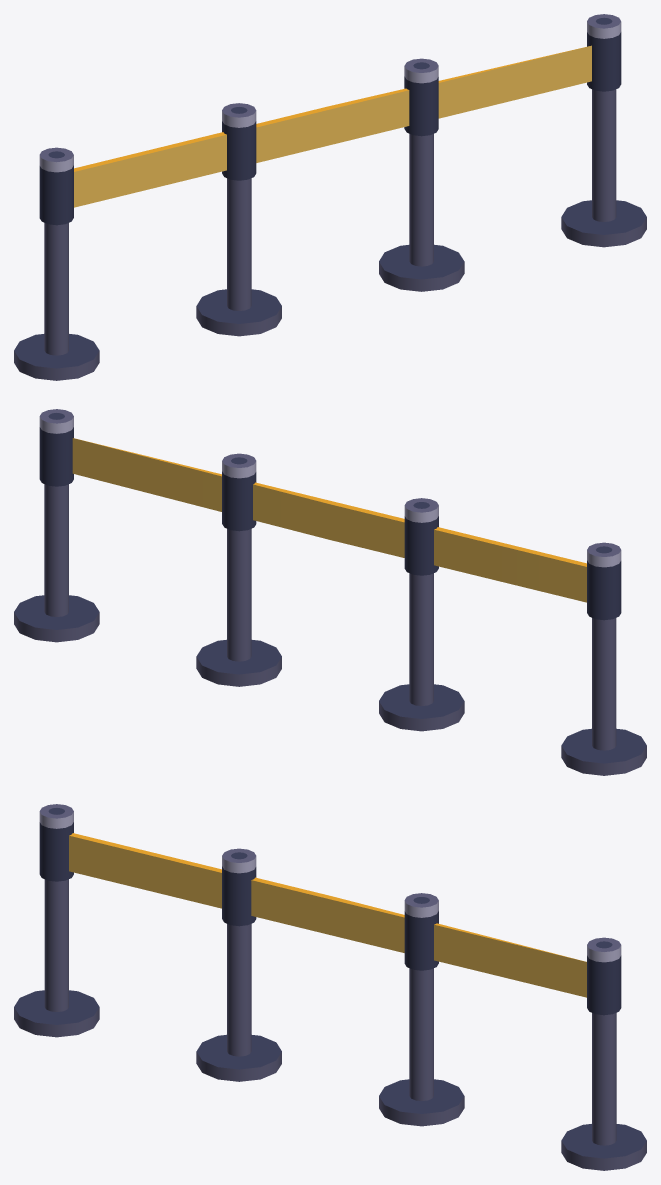
Rendered from Barrier3.fbx.
The picture shows the model from 3 angles, top to bottom: view 1: azimuth 30°, elevation 25°; view 2: azimuth 150°, elevation 25°; view 3: azimuth 330°, elevation 25°; orthographic projection.
Parts seen in each view (by area): view 1: Barrier3; view 2: Barrier3; view 3: Barrier3.
Boxes of the visible parts, box(x1,y1,x2,y2) form: Barrier3: box(14, 14, 646, 380); Barrier3: box(14, 409, 646, 775); Barrier3: box(14, 804, 646, 1170).
Size of the model in its own units: 313 by 99.94 by 37.31.
1 material, 1 textured.
